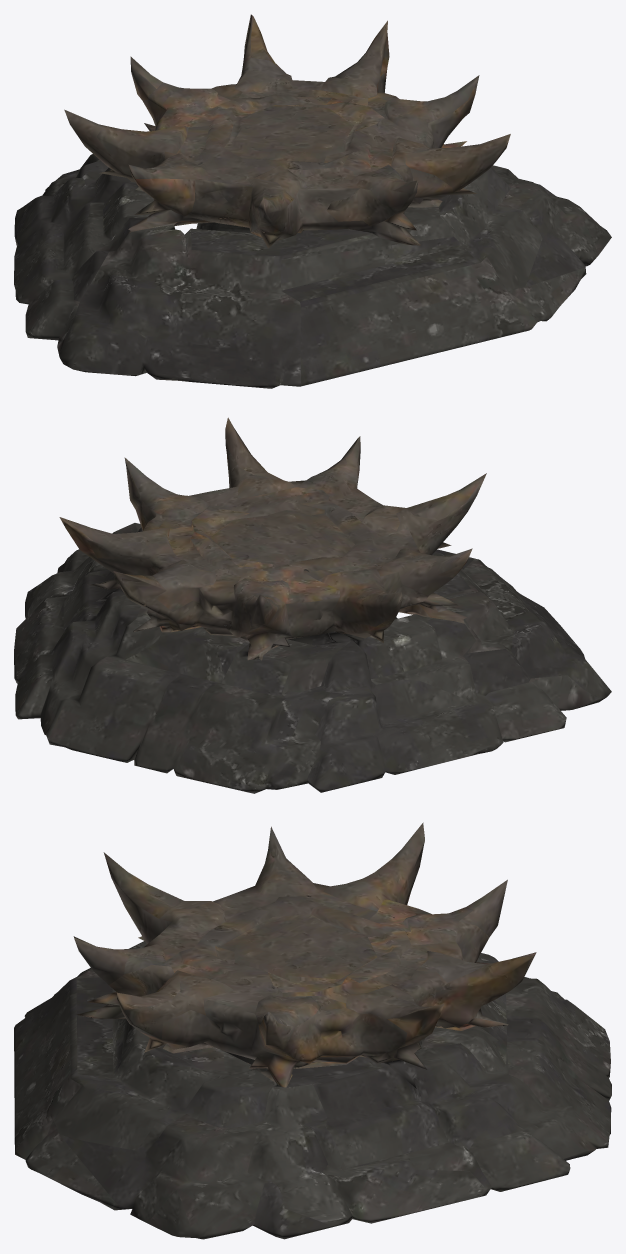
3 views of the same model, one above another, from view 1: azimuth 30°, elevation 25°; view 2: azimuth 150°, elevation 25°; view 3: azimuth 270°, elevation 25° (orthographic). The views are drawn at different scales.
Parts seen in each view (by area): view 1: SM_DR_Nexus_Plinth_01_LOD0; view 2: SM_DR_Nexus_Plinth_01_LOD0; view 3: SM_DR_Nexus_Plinth_01_LOD0.
Part boxes in pixels (left/top/right/bottom): SM_DR_Nexus_Plinth_01_LOD0: left=14, top=14, right=611, bottom=388; SM_DR_Nexus_Plinth_01_LOD0: left=14, top=417, right=611, bottom=793; SM_DR_Nexus_Plinth_01_LOD0: left=14, top=822, right=611, bottom=1239.
Bounding box in the file's own units: 7.2 × 2.02 × 6.09.
Materials: 2 (2 with a texture image).
